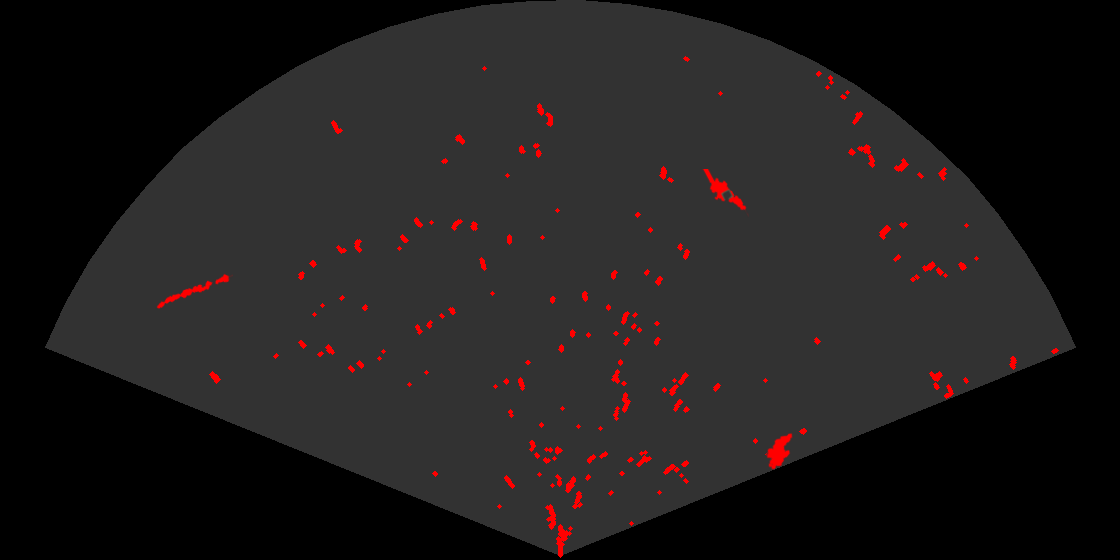AUV: (765, 431, 794, 471)
chain: (155, 272, 233, 310)
frogman: (702, 169, 749, 218)
